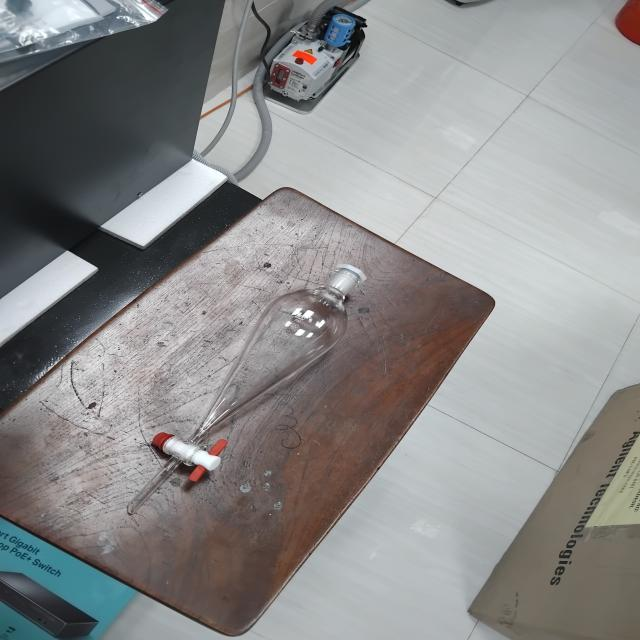Separating_Funnel: (92, 247, 380, 540)
